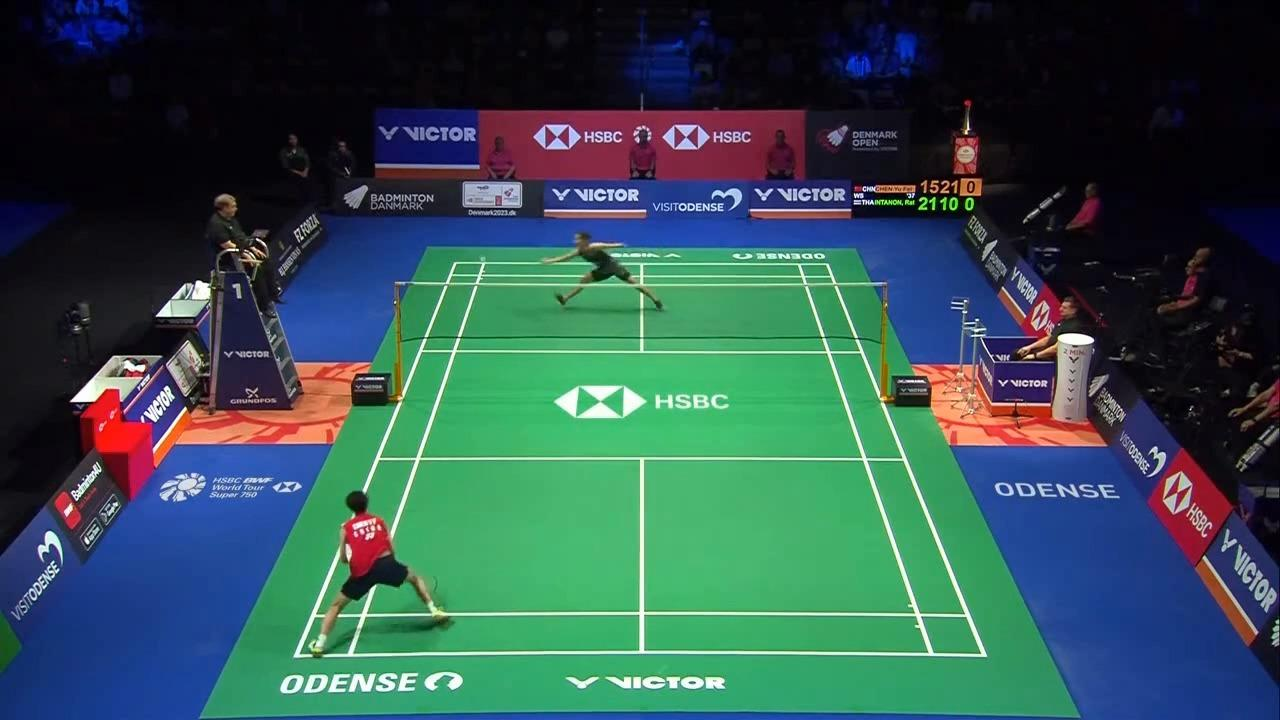shuttle: (479, 255, 488, 262)
